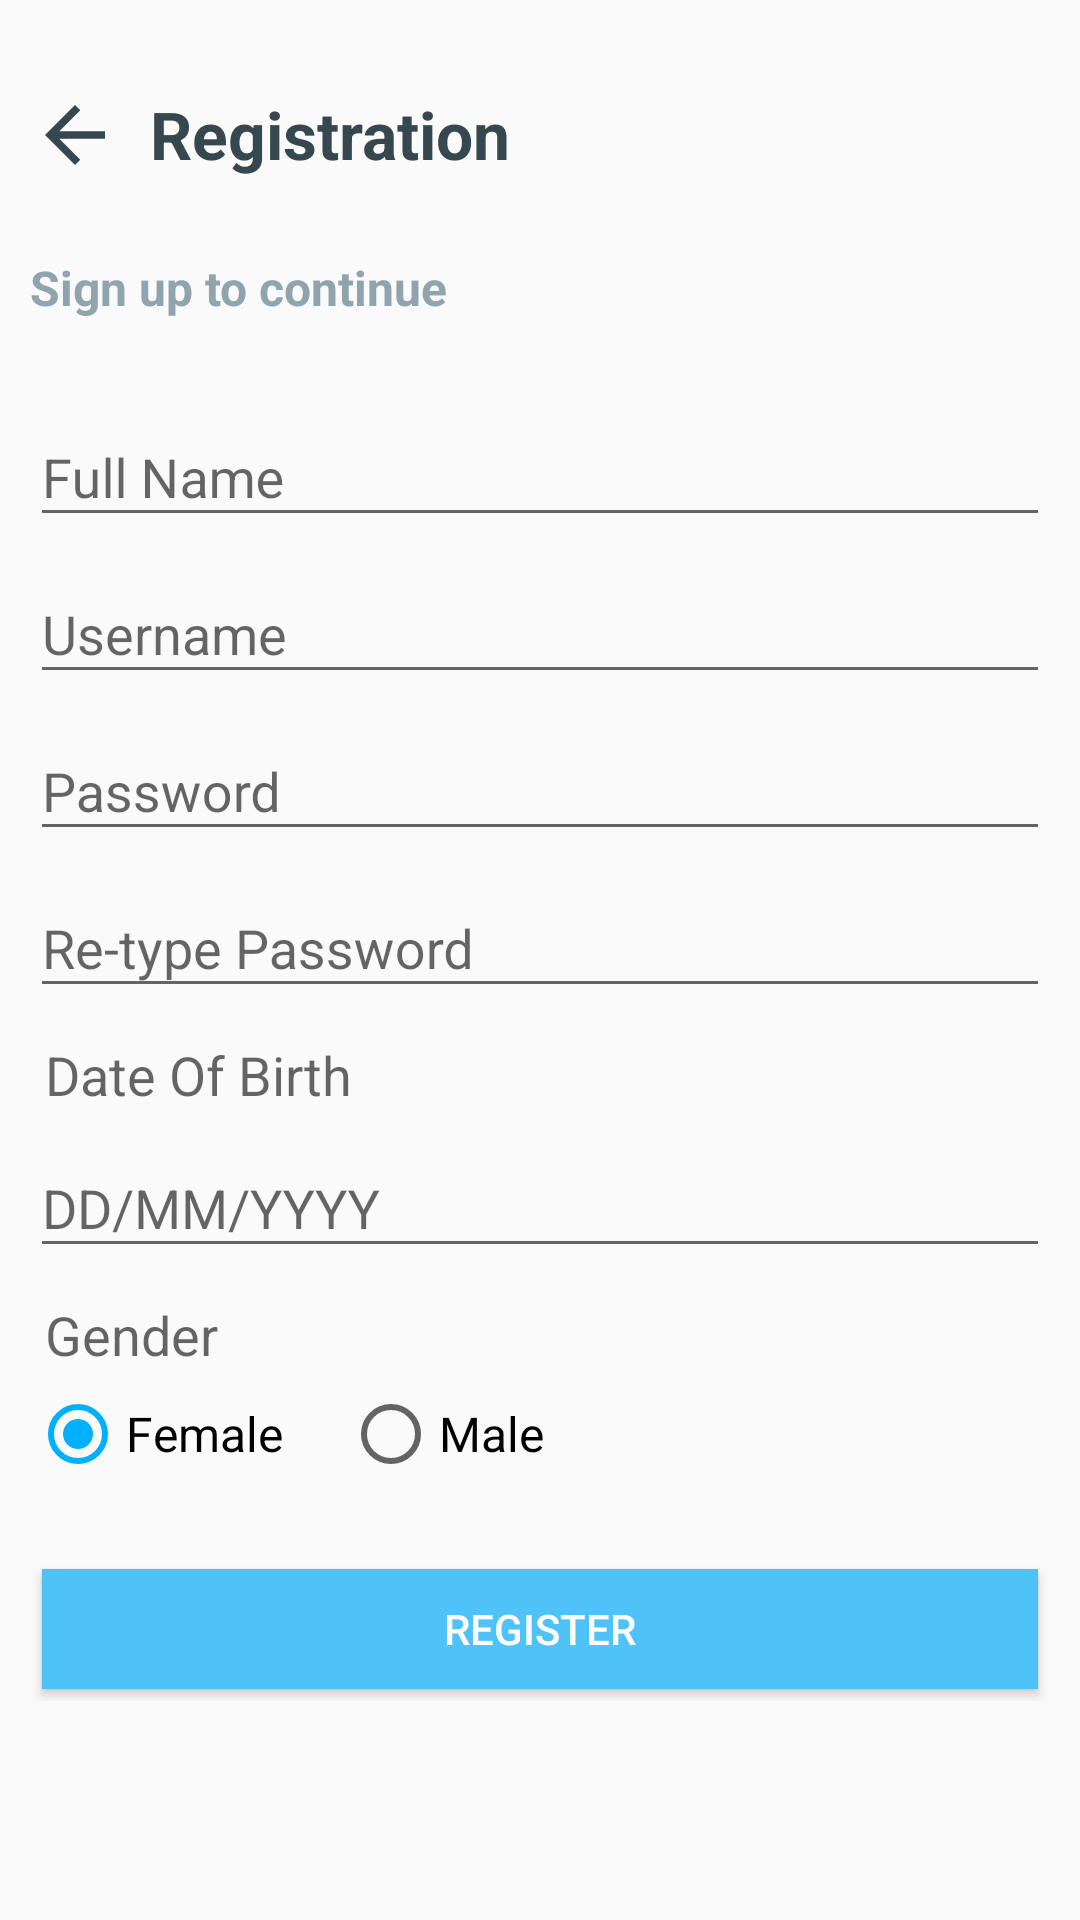

Icons on this 1080px x 1920px Android screen, each with its box as {"x1": x1, "y1": y1, "x2": x2, "y2": y2}:
arrow back: {"x1": 45, "y1": 105, "x2": 105, "y2": 165}
